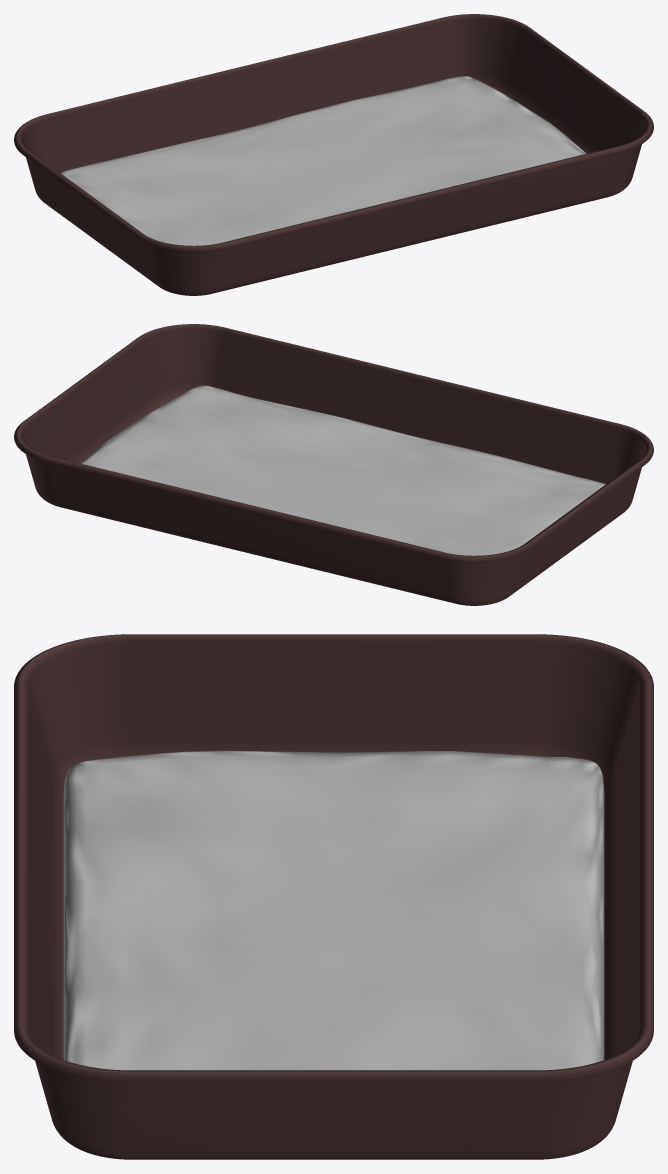
File: tray_with_pad.obj
3 views of the same model, one above another, from view 1: azimuth 30°, elevation 25°; view 2: azimuth 150°, elevation 25°; view 3: azimuth 270°, elevation 25° (orthographic). The views are drawn at different scales.
Visible parts, largest first — view 1: tray.001, pad.002; view 2: tray.001, pad.002; view 3: pad.002, tray.001.
Part boxes in pixels (left/top/right/bottom): tray.001: left=14, top=14, right=653, bottom=295; pad.002: left=60, top=76, right=586, bottom=245; tray.001: left=14, top=324, right=653, bottom=605; pad.002: left=81, top=385, right=605, bottom=555; pad.002: left=63, top=750, right=604, bottom=1070; tray.001: left=14, top=634, right=653, bottom=1159.
Size of the model in its own units: 0.1962 by 0.0228 by 0.12.
